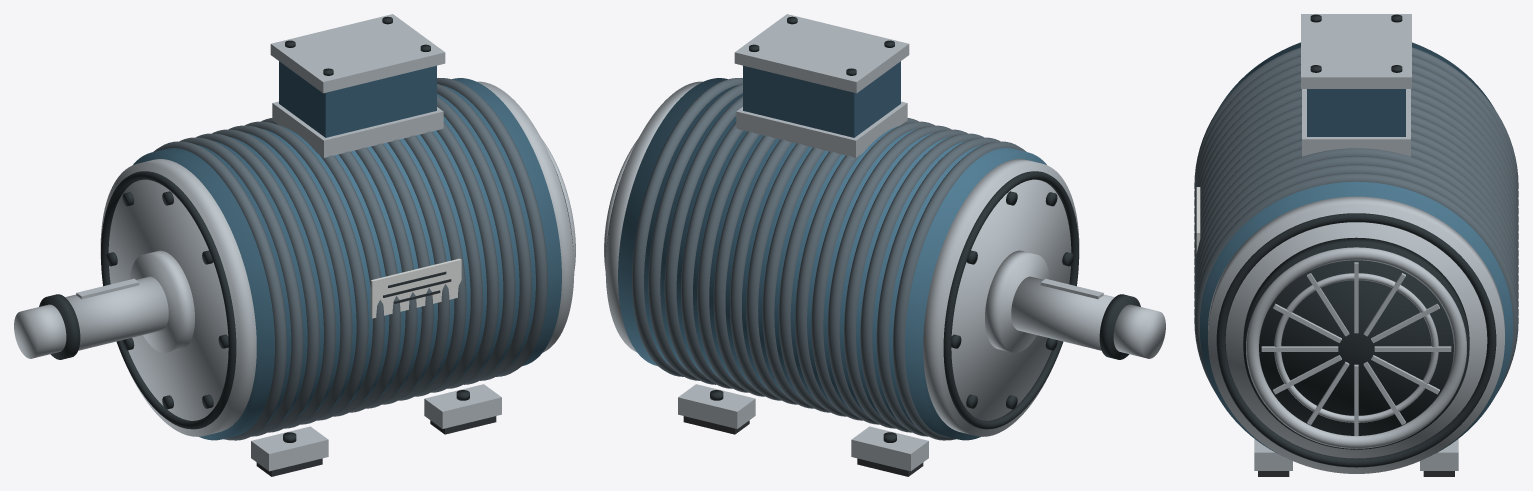
The model's file is Electric_Motor_10x.glb.
3 views of the same model, side by side, from view 1: azimuth 30°, elevation 25°; view 2: azimuth 150°, elevation 25°; view 3: azimuth 270°, elevation 25° (orthographic). The views are drawn at different scales.
Visible parts, largest first — view 1: 01 | Main motor housing, Front end bell, Terminal box lid, Terminal box body, Output shaft, Front end-bell trim, Cooling fin 01, Cooling fin 02, Cooling fin 06, Cooling fin 03, Cooling fin 05, Cooling fin 04 (+19 smaller); view 2: 01 | Main motor housing, Front end bell, Terminal box lid, Terminal box body, Output shaft, Front end-bell trim, Cooling fin 01, Cooling fin 02, Cooling fin 06, Cooling fin 03, Cooling fin 05, Cooling fin 04 (+18 smaller); view 3: Rear fan cover, Rear end bell, Fan cover outer rim, 01 | Main motor housing, Terminal box lid, Rear end-bell trim, Terminal box body, Cooling fin 17, Fan cover inner rim, Cooling fin 16, Cooling fin 15, Cooling fin 14 (+28 smaller).
Part boxes in pixels (box(x1,y1,x2,y2)): 01 | Main motor housing: box(133, 78, 561, 440); Front end bell: box(100, 159, 256, 436); Terminal box lid: box(270, 14, 445, 93); Terminal box body: box(279, 61, 436, 137); Output shaft: box(65, 276, 168, 350); Front end-bell trim: box(101, 171, 236, 429); Cooling fin 01: box(153, 141, 286, 440); Cooling fin 02: box(179, 137, 303, 436); Cooling fin 06: box(245, 121, 368, 420); Cooling fin 03: box(196, 133, 319, 432); Cooling fin 05: box(228, 125, 352, 424); Cooling fin 04: box(212, 129, 335, 428); 01 | Main motor housing: box(618, 78, 1046, 440); Front end bell: box(923, 159, 1079, 436); Terminal box lid: box(734, 14, 909, 93); Terminal box body: box(743, 61, 900, 137); Output shaft: box(1011, 276, 1114, 350); Front end-bell trim: box(943, 171, 1078, 429); Cooling fin 01: box(893, 141, 1026, 440); Cooling fin 02: box(876, 137, 1000, 436); Cooling fin 06: box(811, 121, 934, 420); Cooling fin 03: box(860, 133, 983, 432); Cooling fin 05: box(827, 125, 951, 424); Cooling fin 04: box(844, 129, 967, 428); Rear fan cover: box(1243, 237, 1469, 449); Rear end bell: box(1208, 196, 1504, 473); Fan cover outer rim: box(1246, 247, 1466, 448); 01 | Main motor housing: box(1200, 43, 1512, 455); Terminal box lid: box(1301, 14, 1411, 88); Rear end-bell trim: box(1216, 213, 1496, 467); Terminal box body: box(1307, 89, 1405, 136); Cooling fin 17: box(1194, 173, 1518, 392); Fan cover inner rim: box(1274, 273, 1438, 422); Cooling fin 16: box(1194, 164, 1518, 315); Cooling fin 15: box(1194, 156, 1518, 306); Cooling fin 14: box(1194, 148, 1518, 298).
Size of what is drawn, in the model's own units: 60.55 by 42.32 by 32.1.
